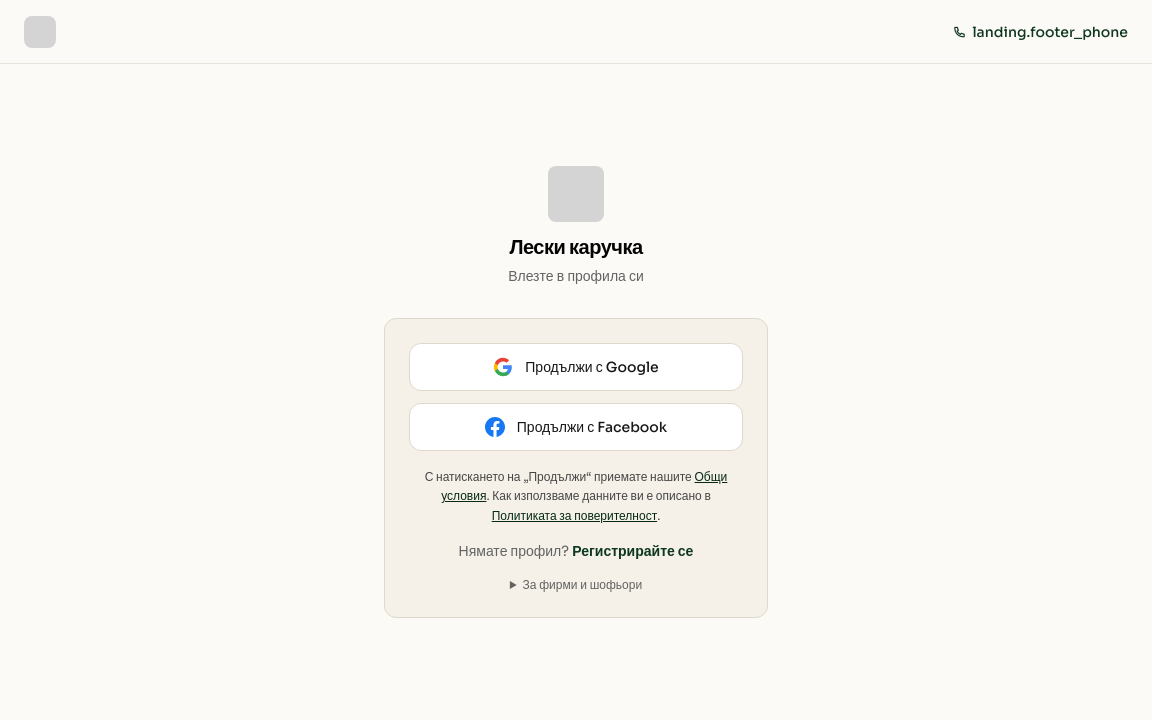
Test: two social sign-in options › shows a safe error and unlocks both buttons after an OAuth error response
What coordinates should you click on to do the following:
click the button "Продължи с Google"
I would click on:
 (576, 367)
Its box is 409,343 -> 743,391.
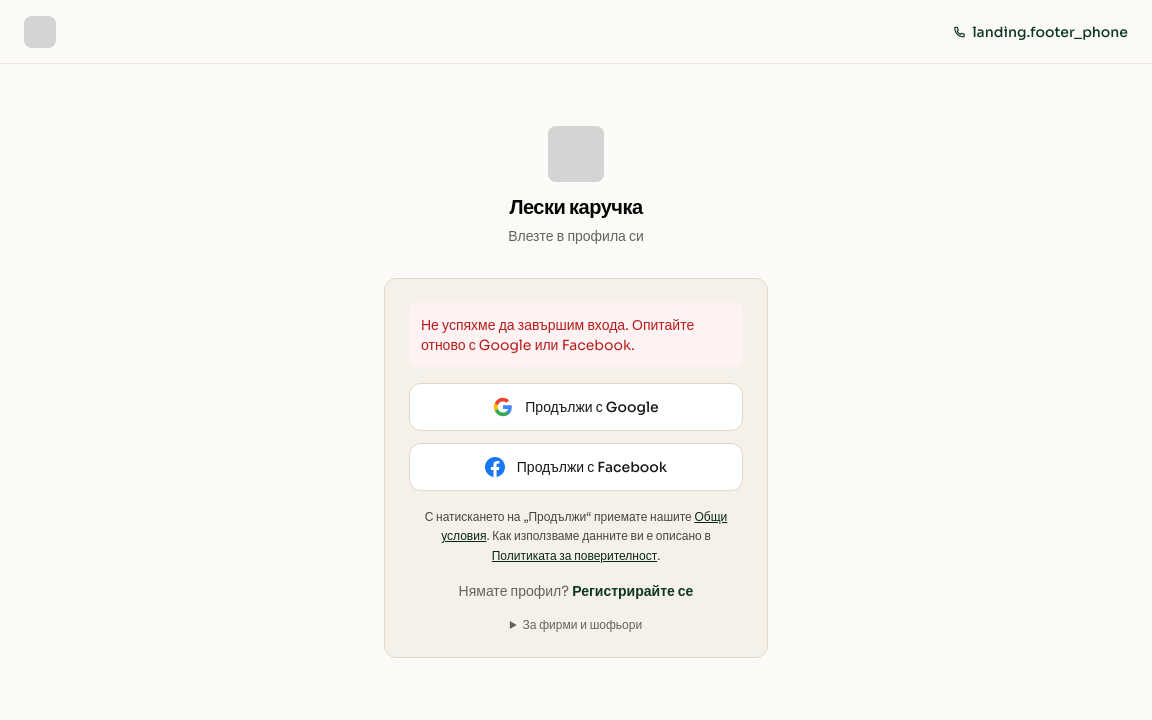
Check: the button "Продължи с Google" is enabled, box 409,383 -> 743,431
Check: the message reads "Не успяхме да завършим входа. Опитайте отново с Google или Facebook.", box 421,316 -> 694,354
